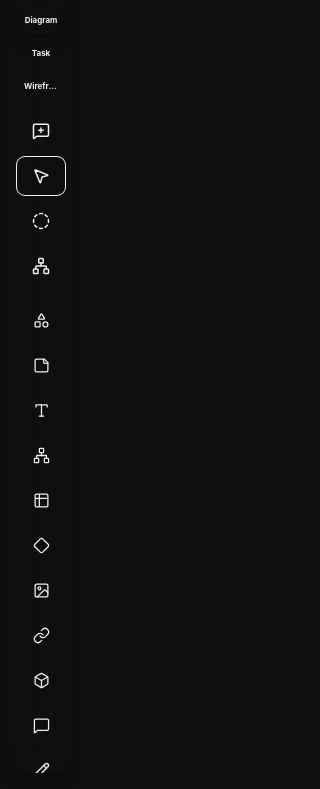
CanvasCreationToolbar › switches the creation inventory without changing canvas state
This screenshot has width=320, height=789.
Expected: the button named "Create Sticky note" is shown, [16,345,66,385]
Click the button "Task" at (41, 53), box [19,38,63,68]
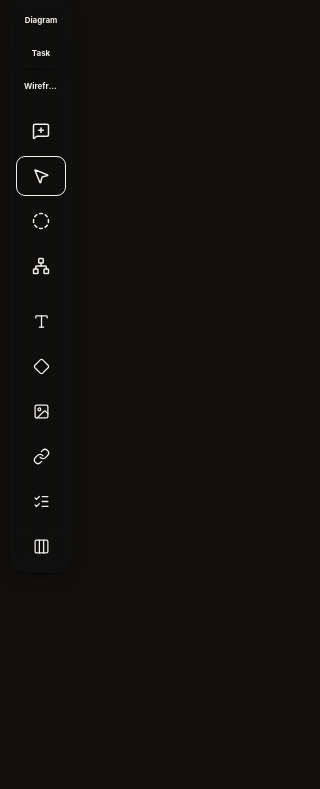
Expected: the button named "Create Task" is shown, [16,481,66,521]
Expected: the button named "Create Stack" is shown, [16,526,66,566]
Click the button "Wireframe" at (41, 86), box [19,71,63,101]
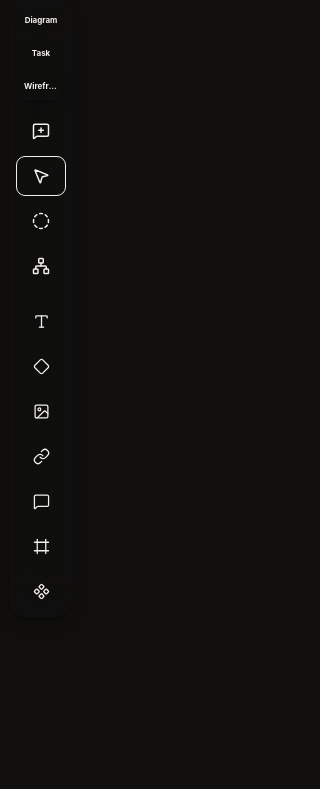
Expected: the button named "Create Frame" is shown, [16,526,66,566]
Expected: the button named "Create Component" is shown, [16,571,66,611]
